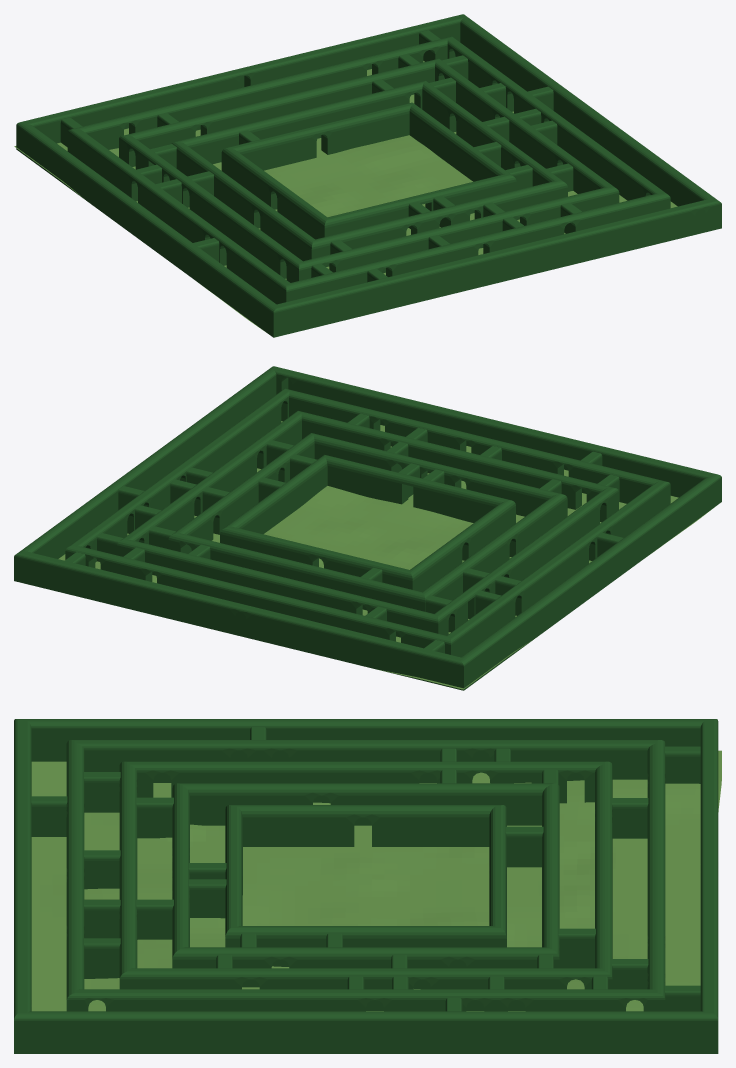
File: Maze 4.fbx
3 views of the same model, one above another, from view 1: azimuth 30°, elevation 25°; view 2: azimuth 150°, elevation 25°; view 3: azimuth 270°, elevation 25° (orthographic). The views are drawn at different scales.
Parts seen in each view (by area): view 1: Walls 1.004, Walls 2.004, Walls 3.004, Walls 4.005, Walls 5.004, Floor.005; view 2: Walls 1.004, Walls 2.004, Walls 3.004, Walls 4.005, Walls 5.004, Floor.005; view 3: Floor.005, Walls 1.004, Walls 2.004, Walls 3.004, Walls 4.005, Walls 5.004, Bush Blocker.087, Bush Blocker.104, Bush Blocker.084, Bush Blocker.102, Bush Blocker.103, Bush Blocker.080 (+9 smaller).
Boxes of the visible parts, left/top/right/bottom form: Walls 1.004: left=16, top=14, right=721, bottom=337; Walls 2.004: left=67, top=36, right=670, bottom=304; Walls 3.004: left=119, top=58, right=619, bottom=282; Walls 4.005: left=171, top=80, right=567, bottom=266; Walls 5.004: left=221, top=102, right=516, bottom=239; Floor.005: left=14, top=61, right=677, bottom=331; Walls 1.004: left=14, top=366, right=721, bottom=690; Walls 2.004: left=65, top=388, right=670, bottom=657; Walls 3.004: left=117, top=411, right=618, bottom=637; Walls 4.005: left=168, top=433, right=567, bottom=611; Walls 5.004: left=220, top=455, right=515, bottom=591; Floor.005: left=58, top=421, right=714, bottom=689; Floor.005: left=31, top=750, right=721, bottom=1011; Walls 1.004: left=14, top=719, right=718, bottom=1053; Walls 2.004: left=66, top=740, right=665, bottom=1011; Walls 3.004: left=119, top=761, right=612, bottom=1010; Walls 4.005: left=172, top=783, right=559, bottom=989; Walls 5.004: left=225, top=805, right=506, bottom=968; Bush Blocker.087: left=136, top=797, right=173, bottom=838; Bush Blocker.104: left=505, top=826, right=543, bottom=867; Bush Blocker.084: left=136, top=899, right=173, bottom=939; Bush Blocker.102: left=558, top=928, right=595, bottom=968; Bush Blocker.103: left=611, top=798, right=648, bottom=838; Bush Blocker.080: left=31, top=796, right=67, bottom=836.
Bounding box in the file's own units: 6009 × 368 × 5992.
